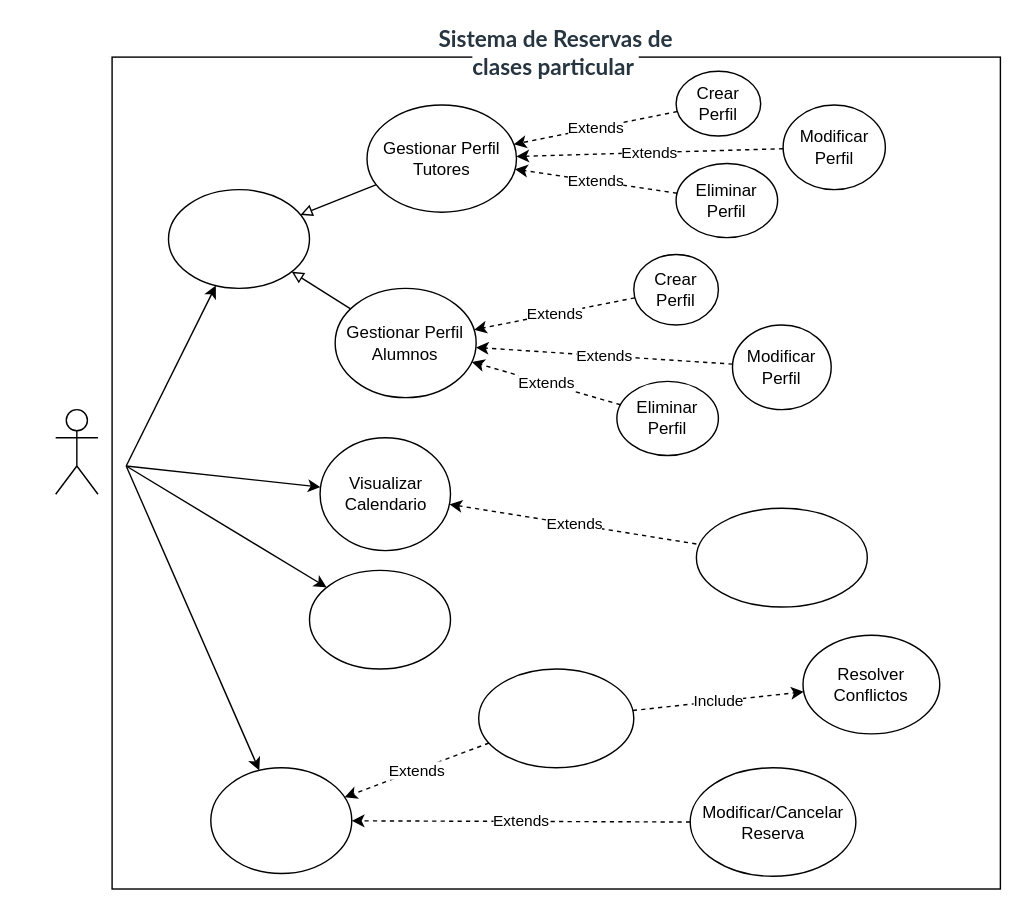
The diagram is 1025 pixels wide and 914 high, and some of its shapes have lost their labels. The box of each missing label's shape, as (x1, y1, x2, y2) in pixels:
Administrador: (54, 408, 98, 494)
Buscar Clases: (308, 569, 450, 669)
Crear Reserva: (477, 668, 634, 768)
Filtrar (profesor, cupos disponibles, etc.): (695, 507, 867, 607)
Gestionar Perfil: (167, 188, 309, 288)
Gestionar Reservas: (209, 766, 352, 873)
